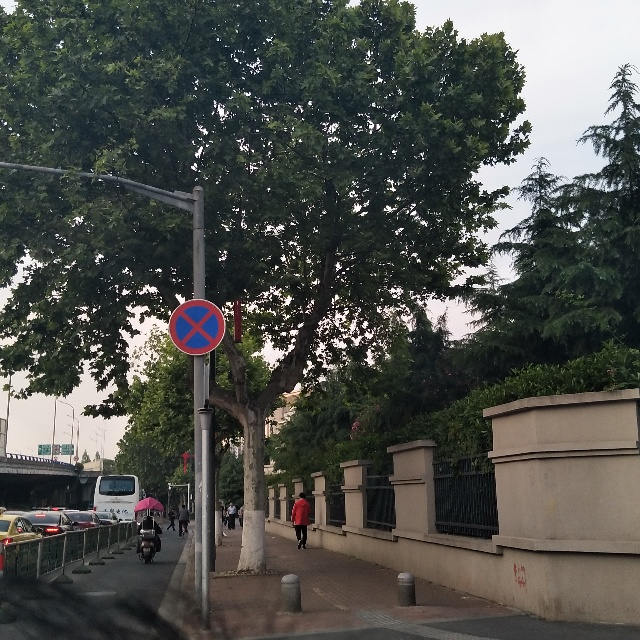stop: (165, 301, 221, 349)
